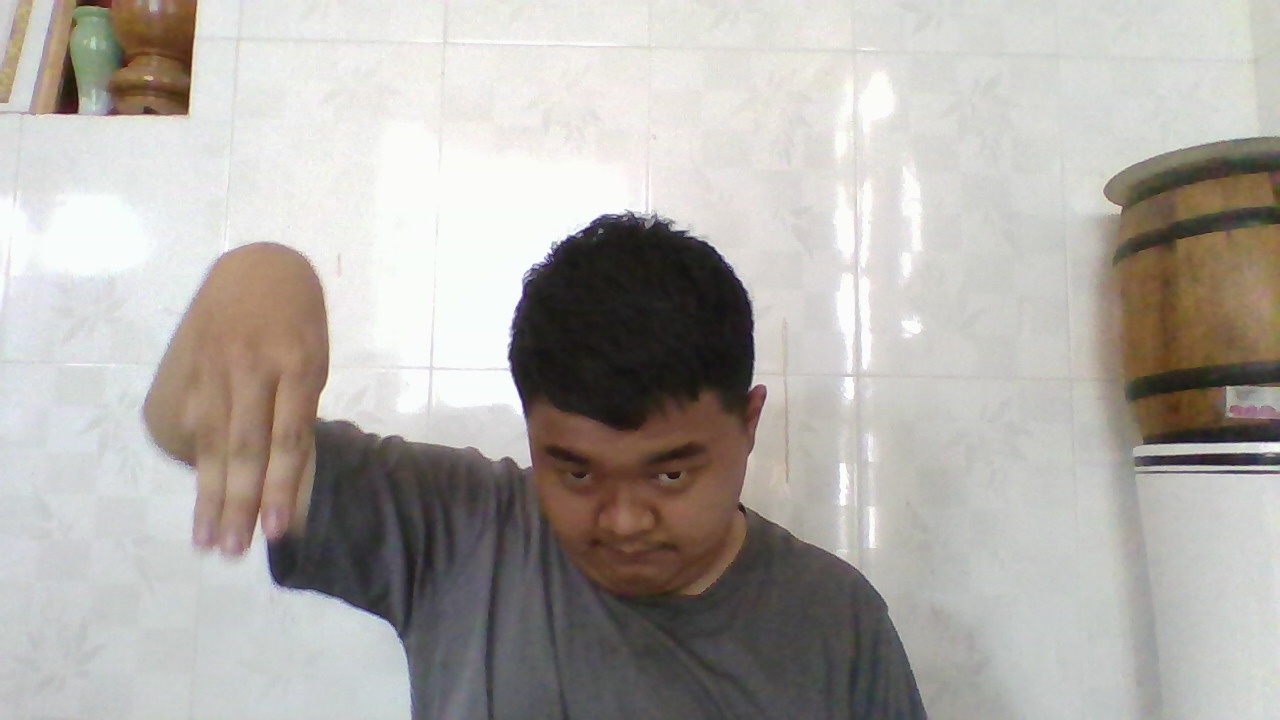M: (149, 244, 331, 570)
